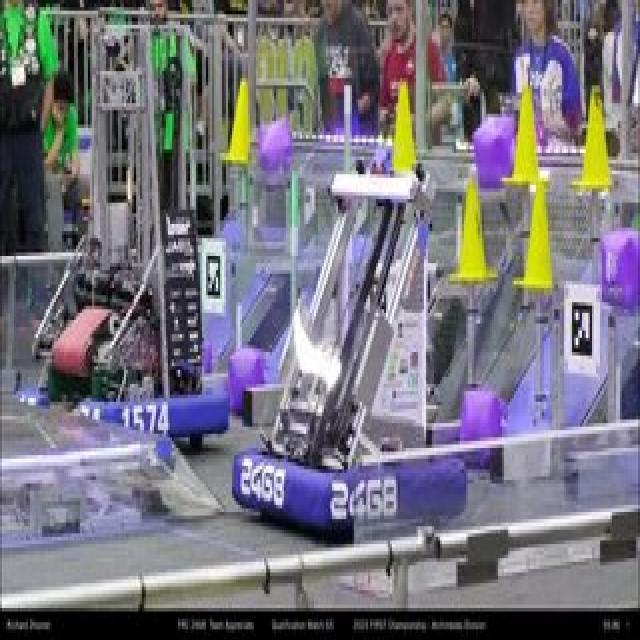robot: (9, 22, 231, 454), (230, 148, 452, 538)
